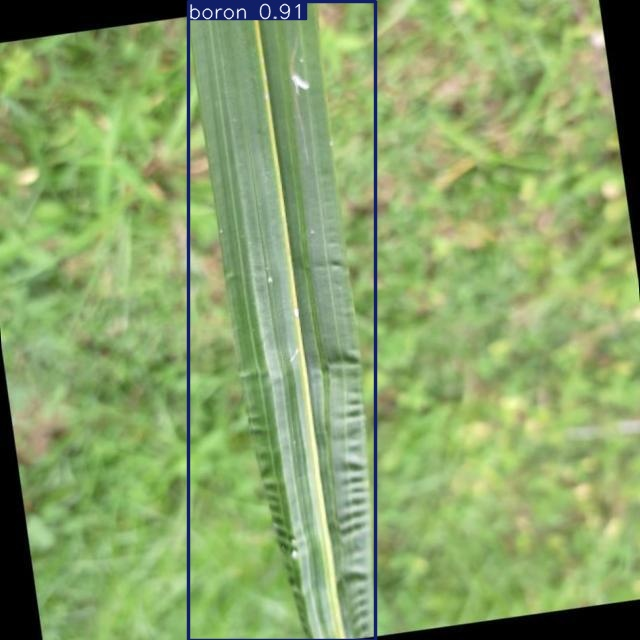nitrogen: (188, 1, 375, 640)
